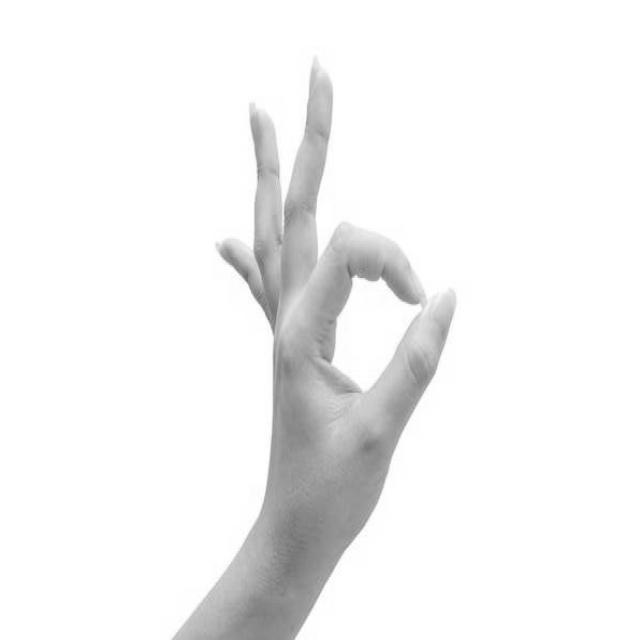perfect: (207, 45, 460, 552)
